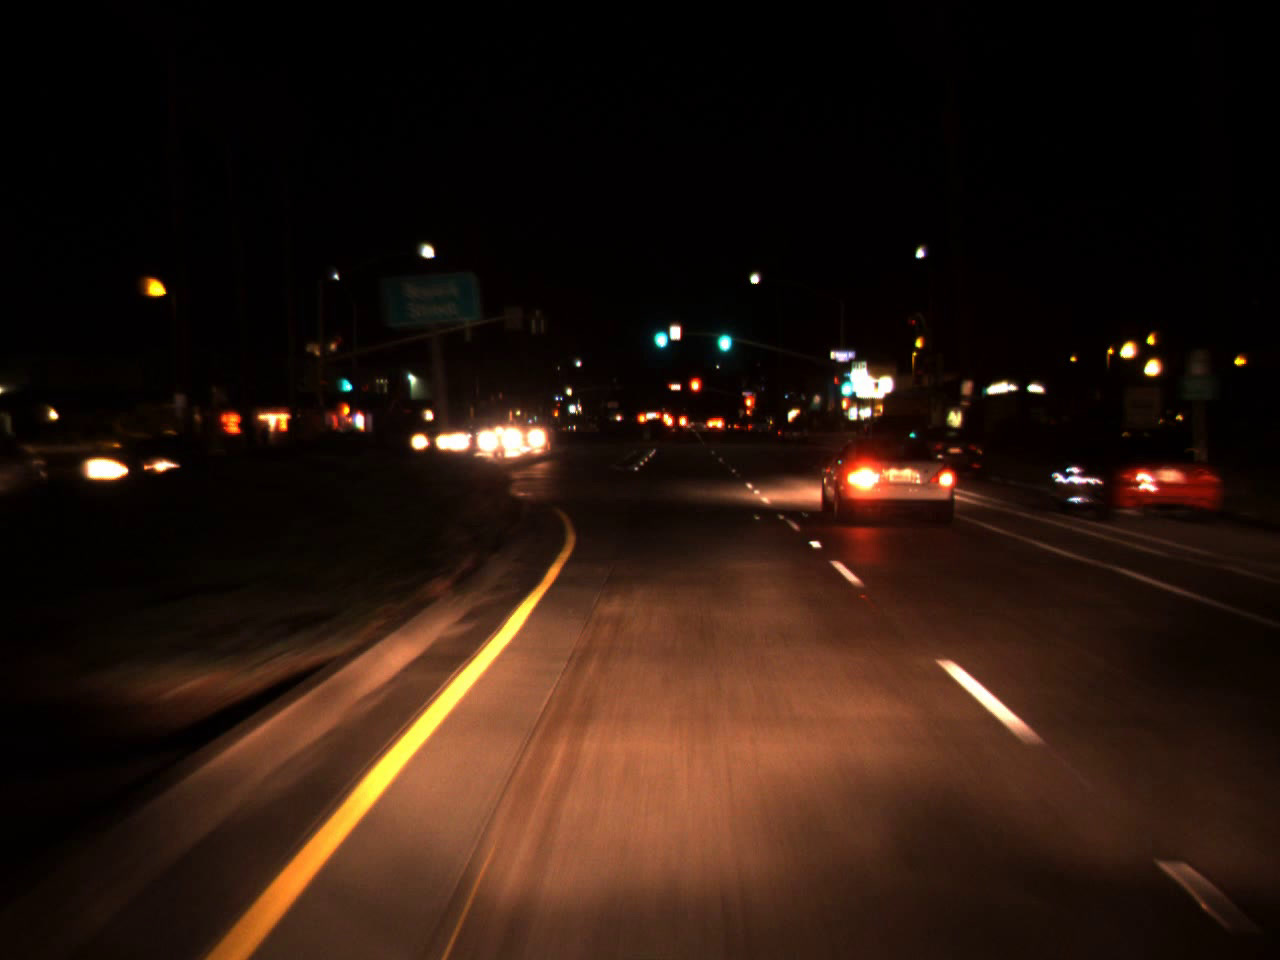go: (713, 315, 734, 357), (650, 313, 669, 352), (338, 365, 356, 395), (839, 374, 853, 398)
stop: (742, 393, 755, 422), (690, 379, 699, 400)
